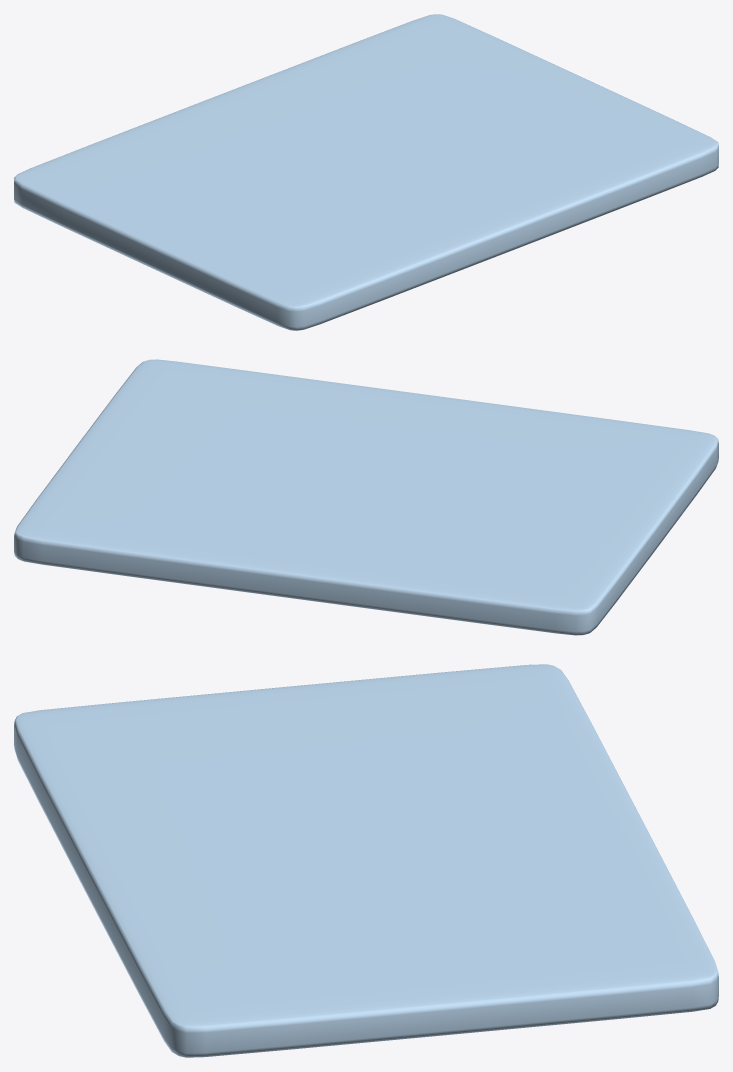
File: PROP_PicnicBlanket_v1.glb
The picture shows the model from 3 angles, top to bottom: view 1: azimuth 30°, elevation 25°; view 2: azimuth 150°, elevation 25°; view 3: azimuth 270°, elevation 25°; orthographic projection. The views are drawn at different scales.
Parts seen in each view (by area): view 1: PROP_PicnicBlanket_v1; view 2: PROP_PicnicBlanket_v1; view 3: PROP_PicnicBlanket_v1.
Part boxes in pixels (x1,y1,x2,y2): PROP_PicnicBlanket_v1: (14, 14, 718, 330); PROP_PicnicBlanket_v1: (14, 359, 718, 635); PROP_PicnicBlanket_v1: (14, 664, 718, 1057).
Bounding box in the file's own units: 1.47 × 0.0629 × 1.2.
